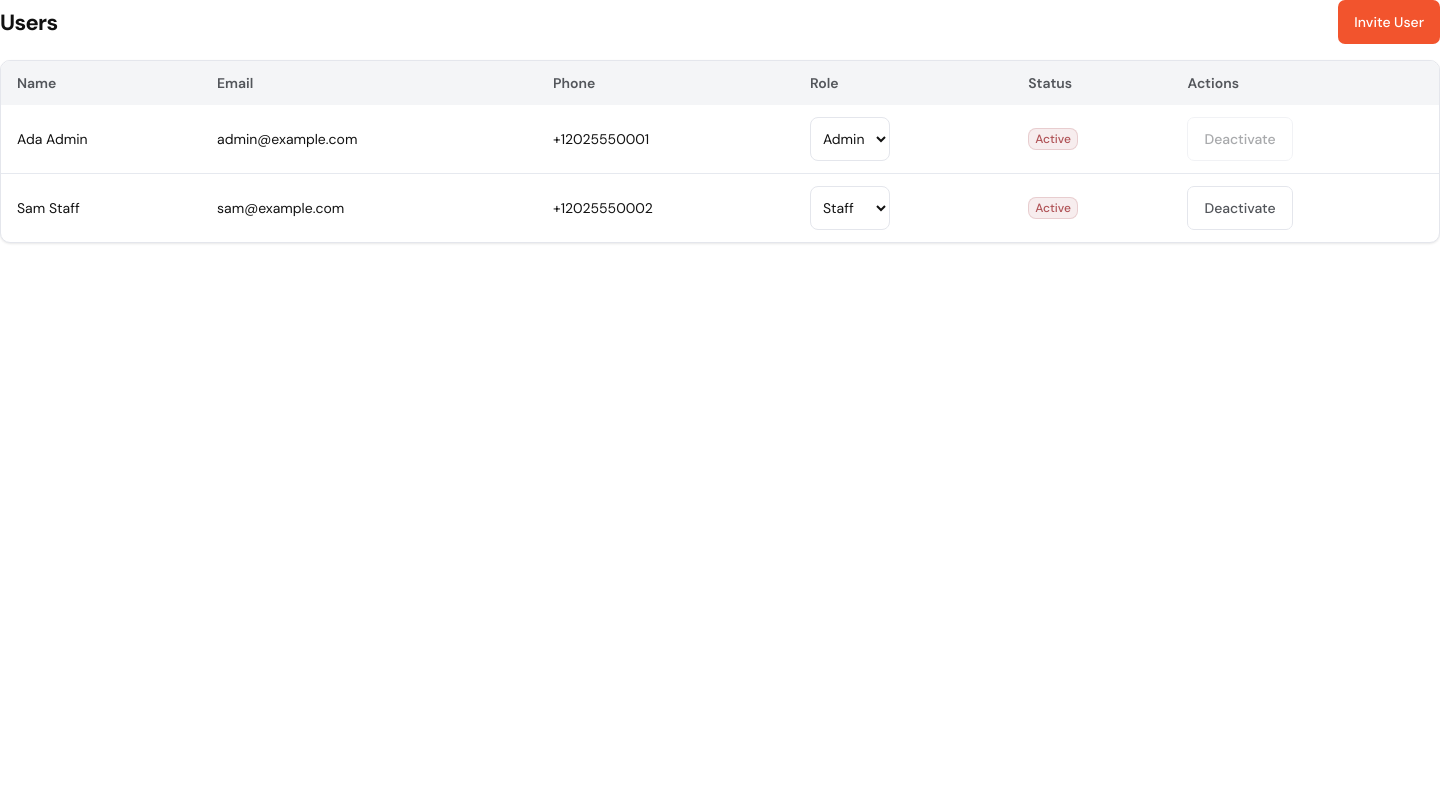
Test: Users — invite modal accessibility › closes on Escape
Click the button "Invite User". click: point(1389, 22)
box: [1338,0,1439,44]
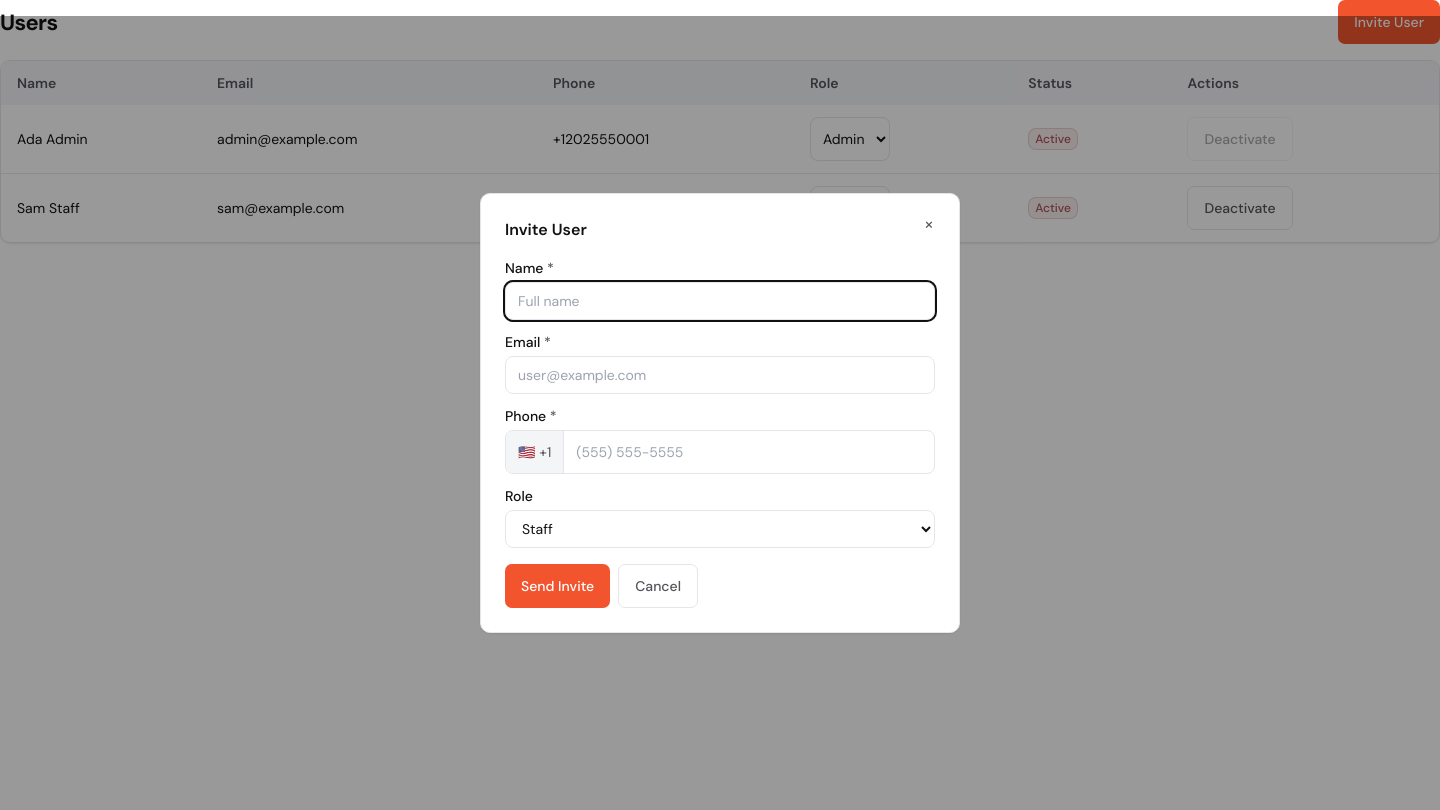
Expected: the dialog is shown, [480,193,960,633]
Press Escape
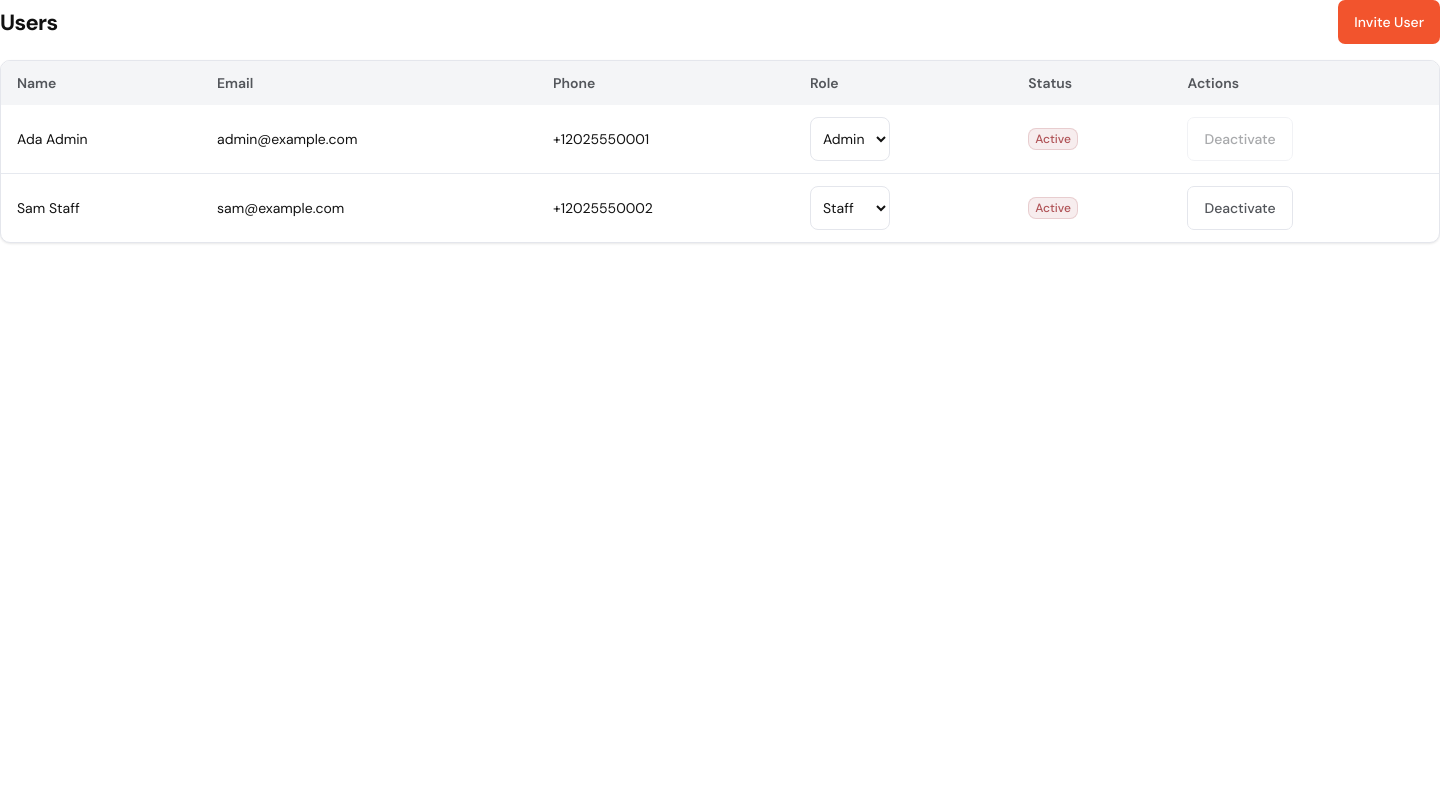
Expected: the dialog is gone
